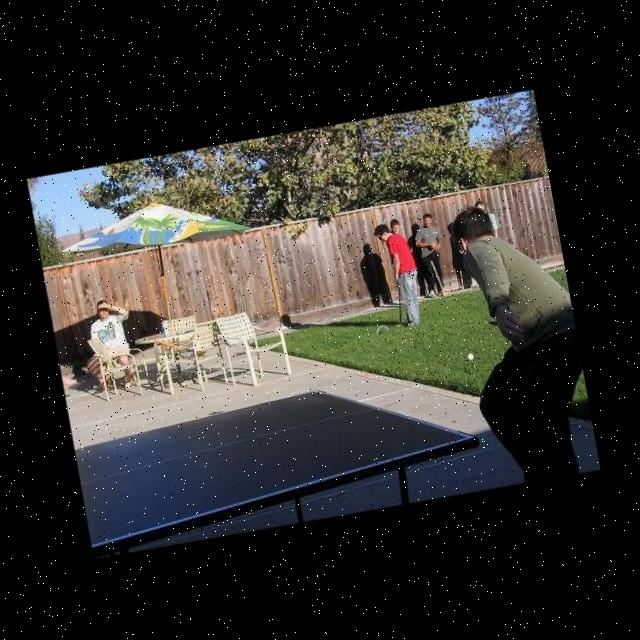ping-pong-ball: (466, 352, 474, 362)
